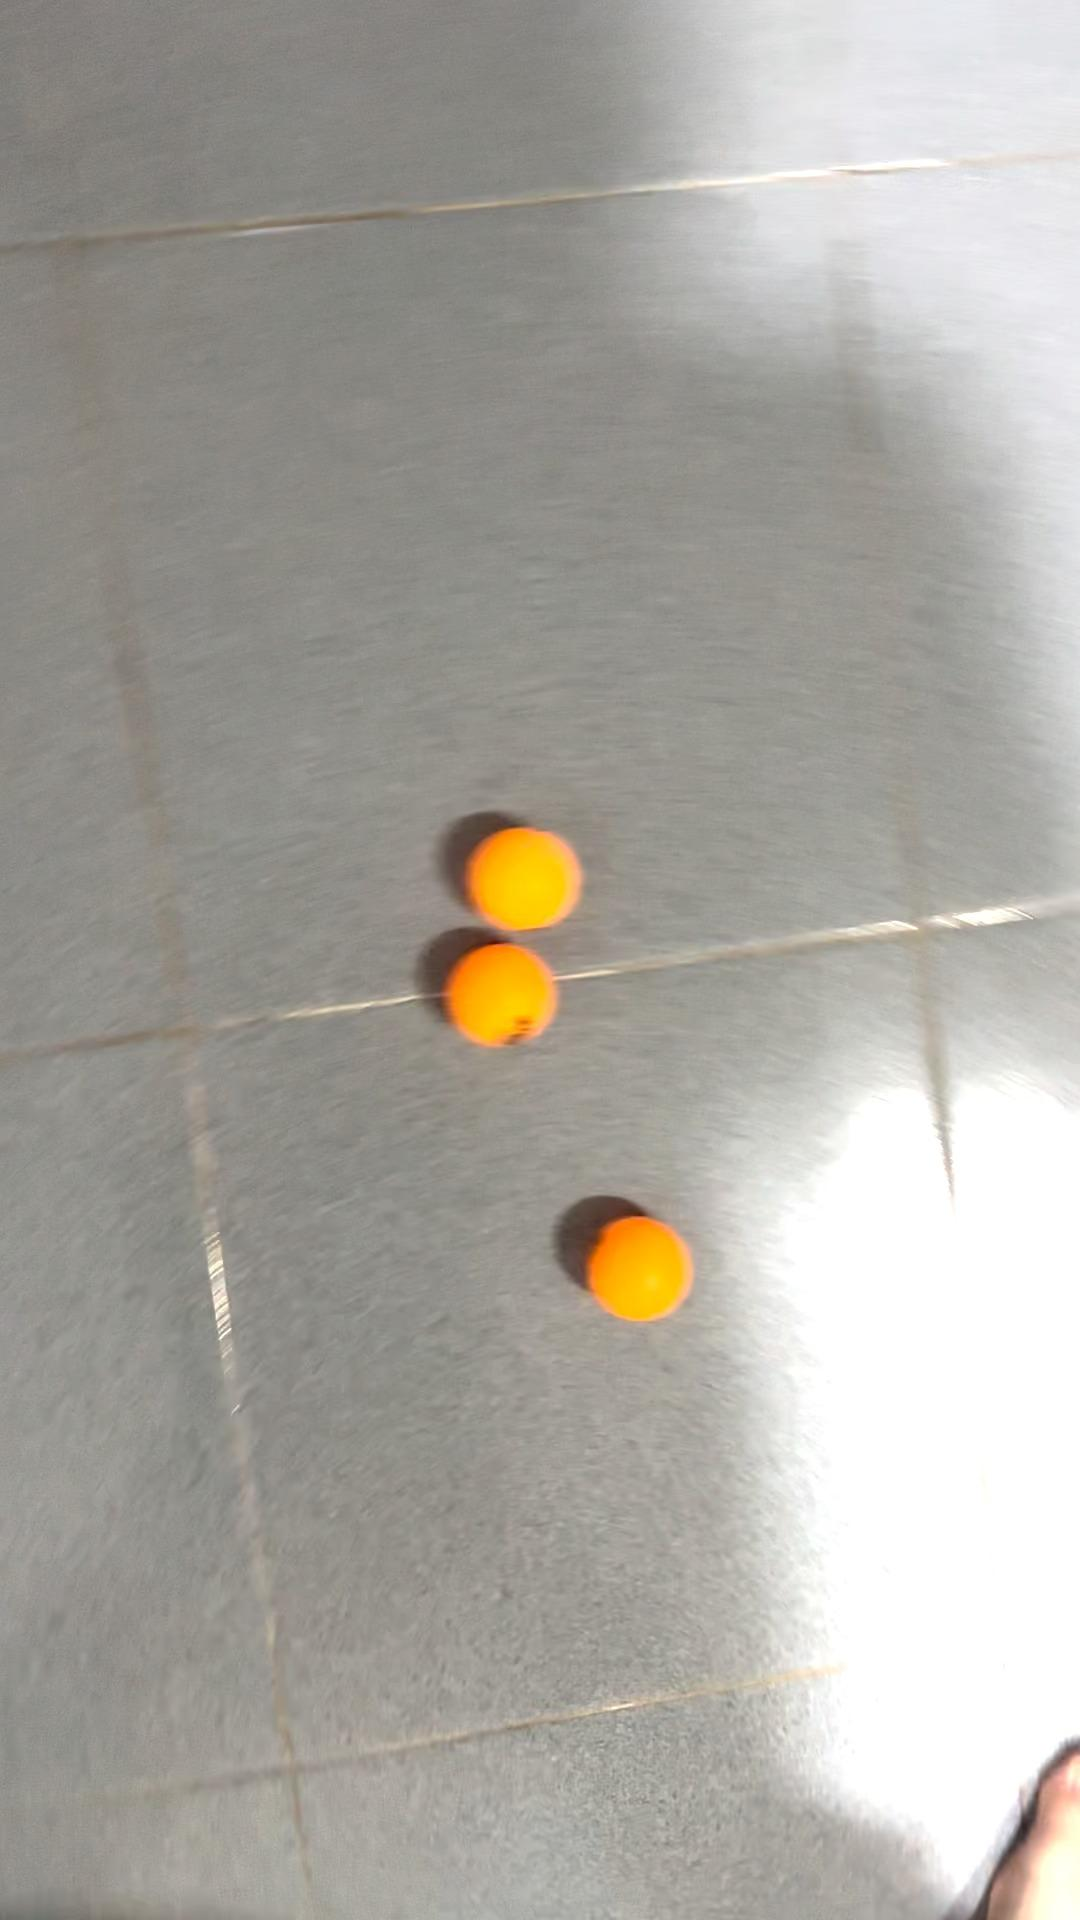oball: (575, 1208, 702, 1331), (448, 938, 571, 1059), (462, 831, 584, 932)
